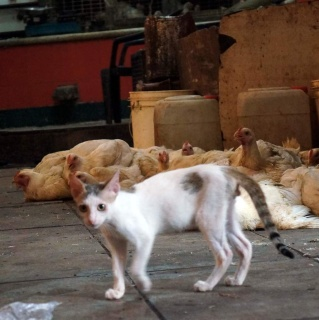Cat: (69, 162, 295, 299)
